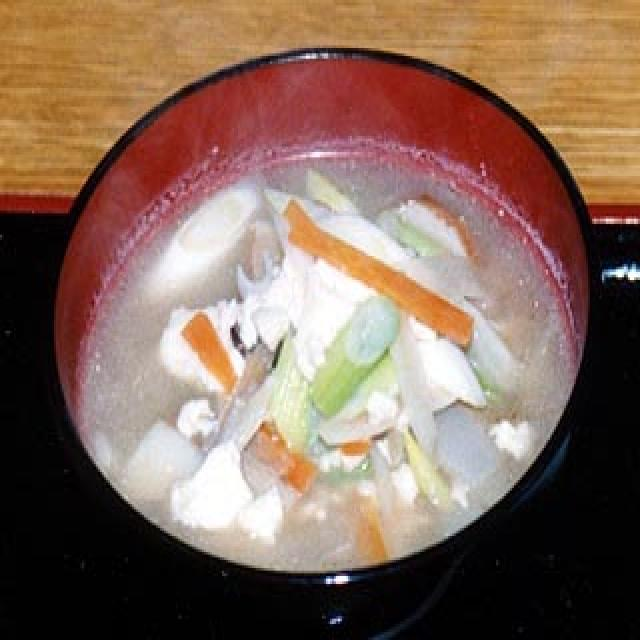蔬菜料理: (18, 8, 632, 640)
